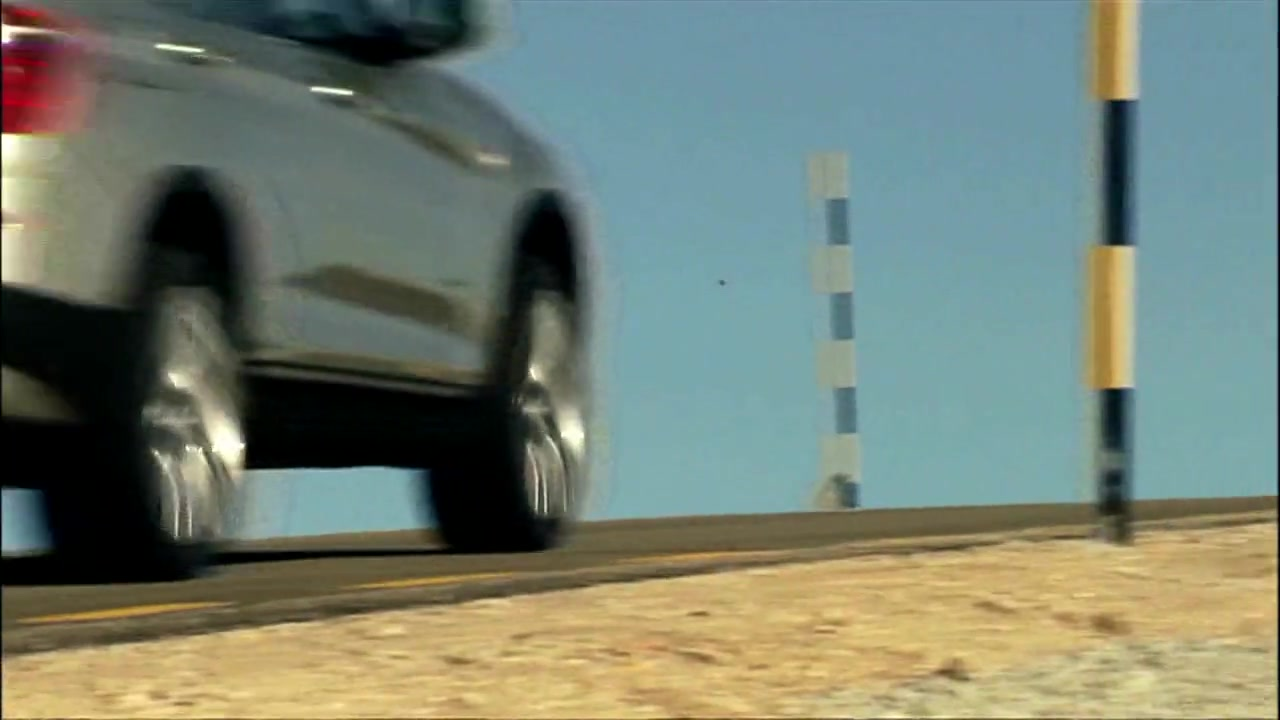car: (3, 1, 603, 588)
